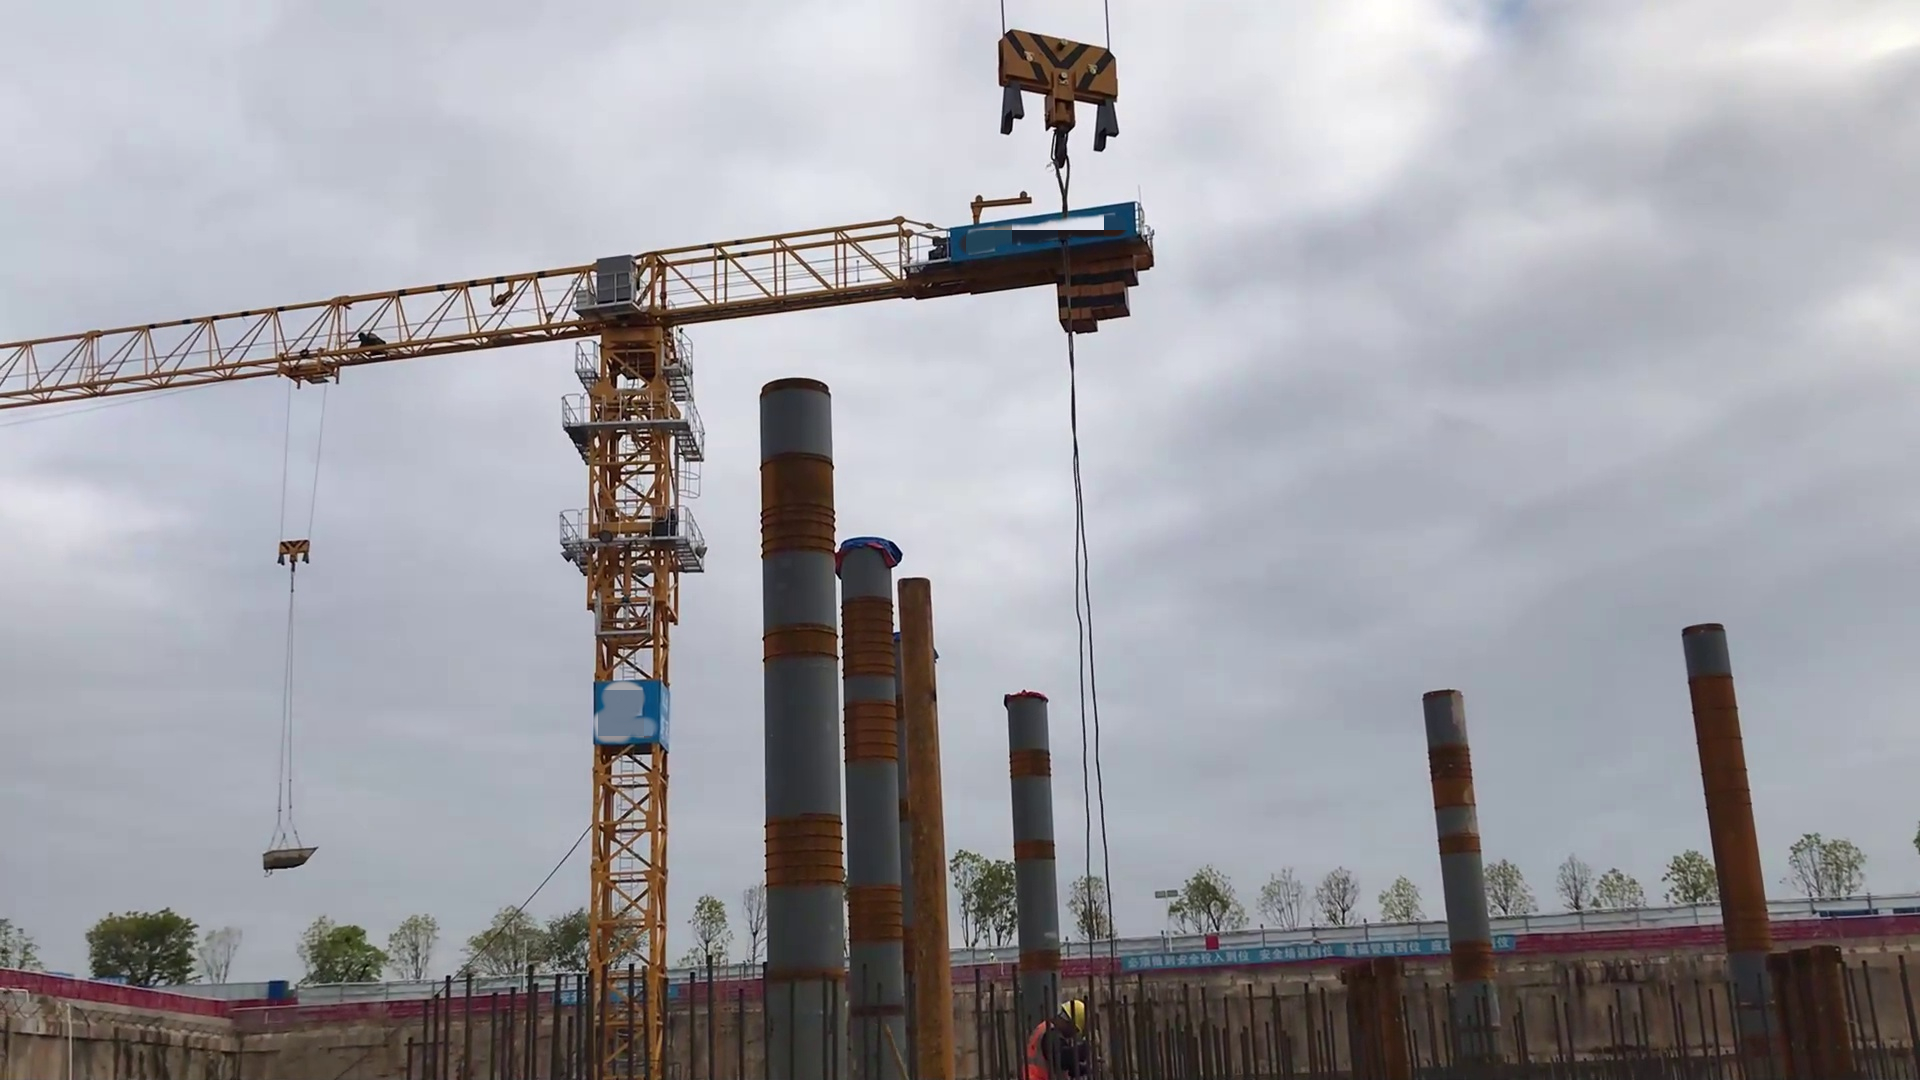helmet: (1060, 1000, 1085, 1032)
hook: (991, 20, 1130, 179), (273, 534, 313, 577)
person: (1028, 999, 1093, 1080)
slogan: (1121, 933, 1515, 972)
vest: (1025, 1021, 1059, 1080)
